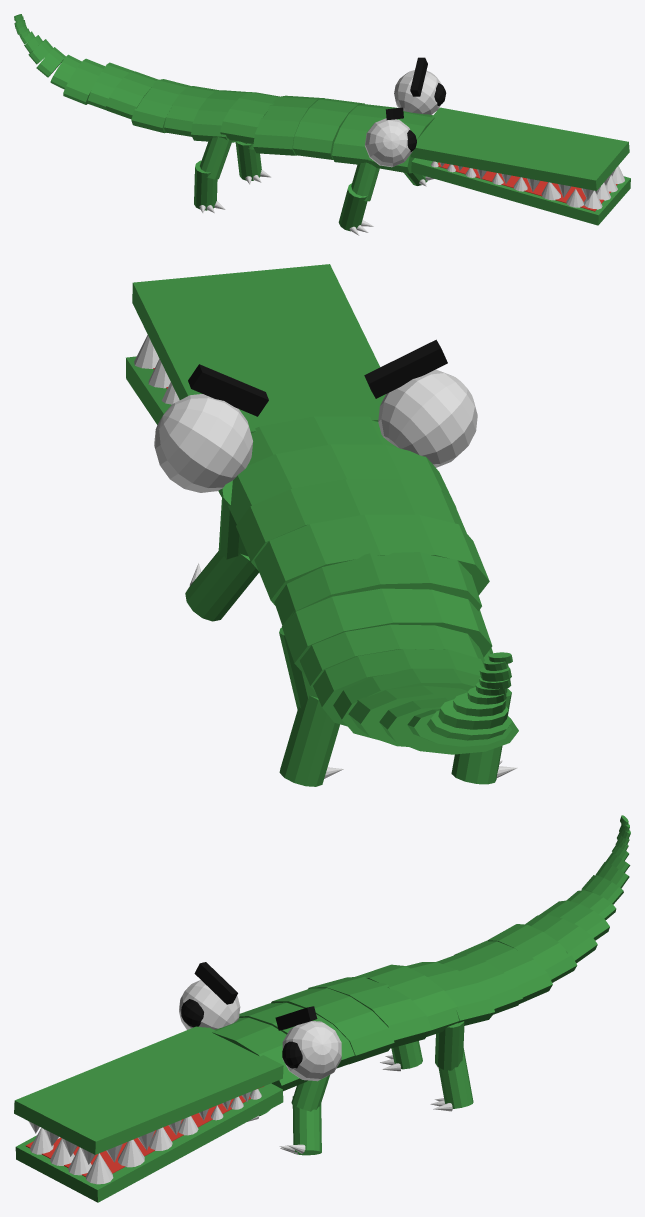
Rendered from croc.gltf.
The picture shows the model from 3 angles, top to bottom: view 1: azimuth 30°, elevation 25°; view 2: azimuth 150°, elevation 25°; view 3: azimuth 270°, elevation 25°; orthographic projection. The views are drawn at different scales.
Parts seen in each view (by area): view 1: node_MeshObject2144919808-PolyPaper10; view 2: node_MeshObject2144919808-PolyPaper10; view 3: node_MeshObject2144919808-PolyPaper10.
Boxes of the visible parts, x1,y1,x2,y2 form: node_MeshObject2144919808-PolyPaper10: [14, 14, 630, 235]; node_MeshObject2144919808-PolyPaper10: [126, 264, 518, 786]; node_MeshObject2144919808-PolyPaper10: [14, 815, 630, 1202].
Size of the model in its own units: 1.22 by 0.4419 by 1.3.
